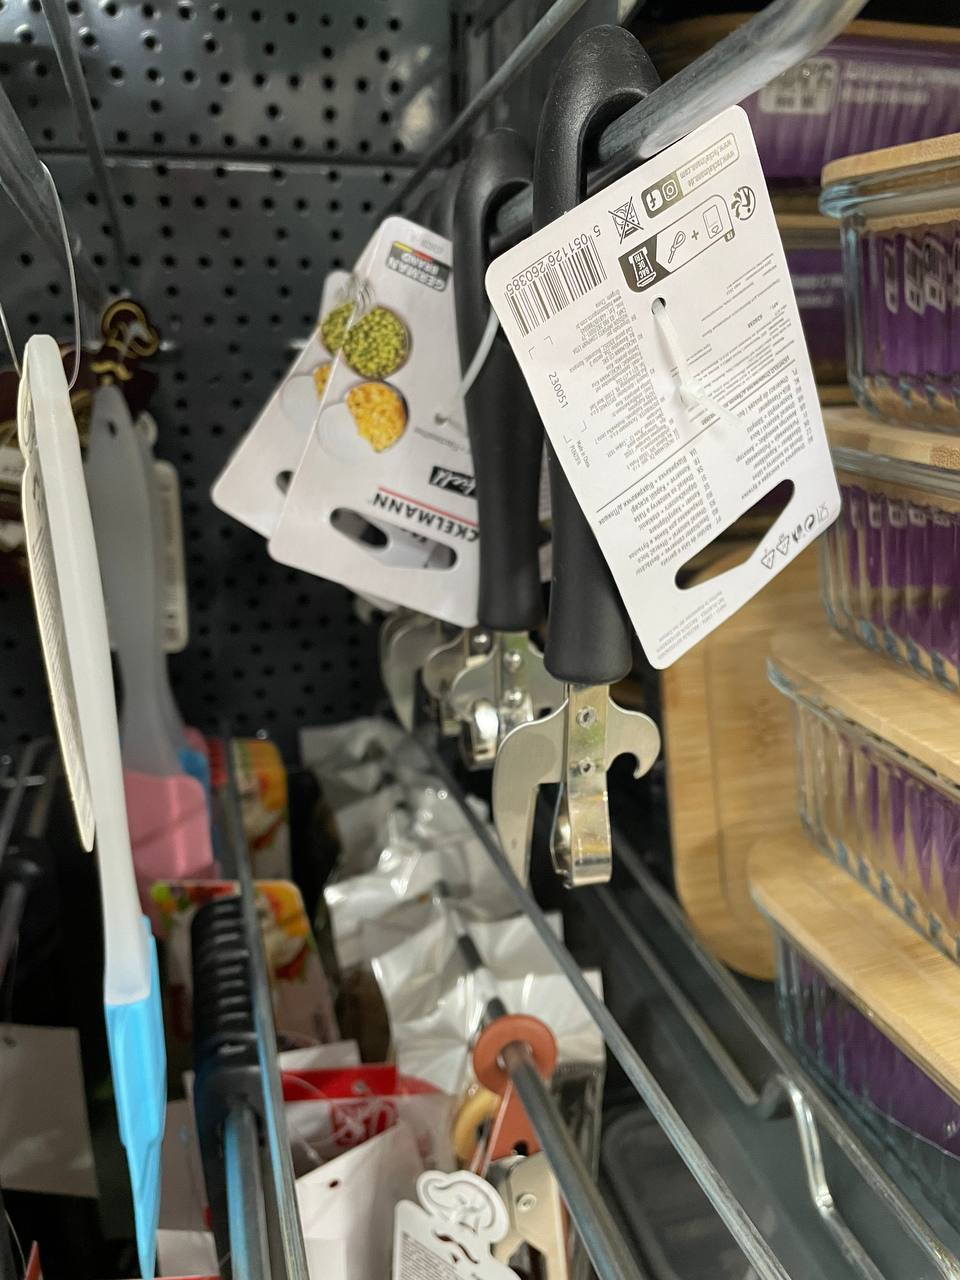1d: (502, 238, 610, 339)
